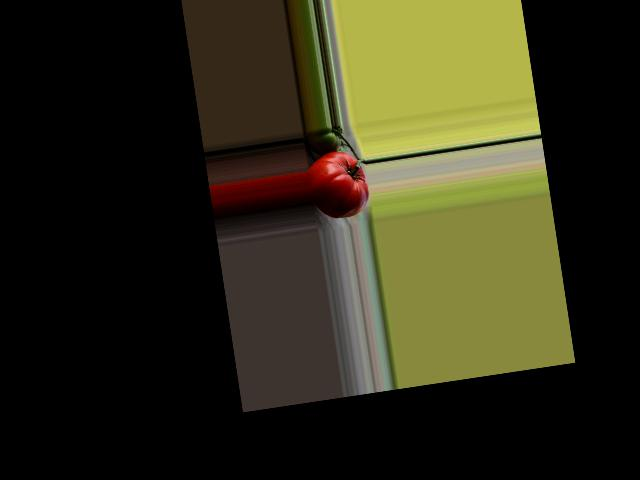tomato: (305, 148, 372, 222)
